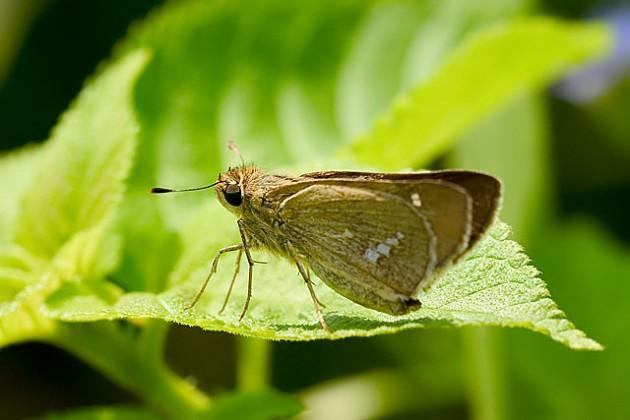Hesperiidae: (147, 137, 512, 335)
